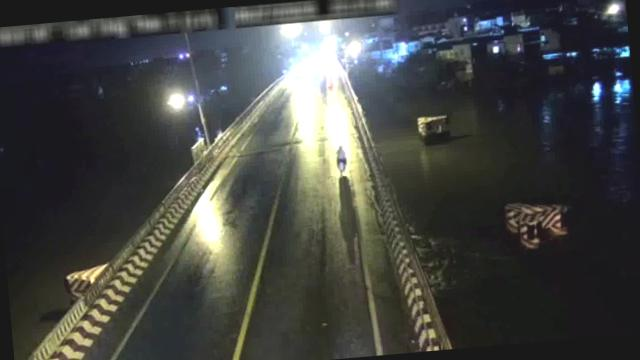Bike: (330, 144, 351, 176)
